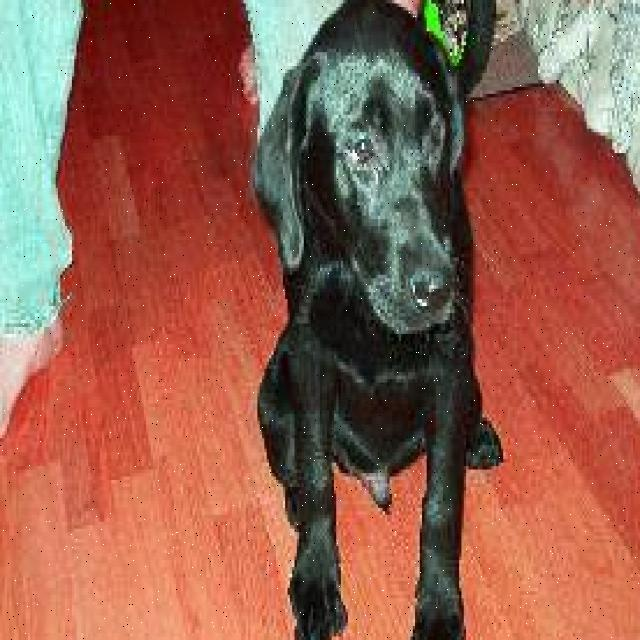Dog: (260, 0, 475, 334)
